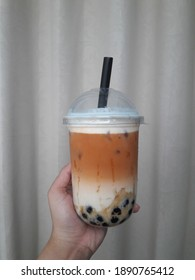plastic_glass: (60, 87, 148, 233)
